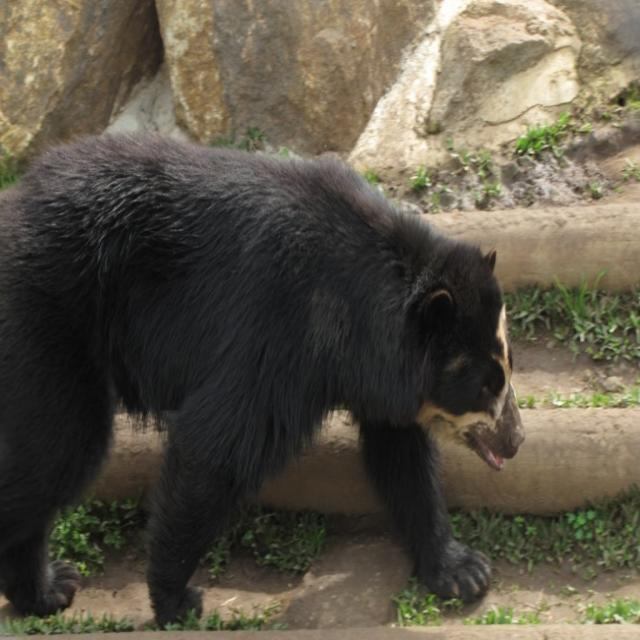Bear: (0, 126, 526, 629)
